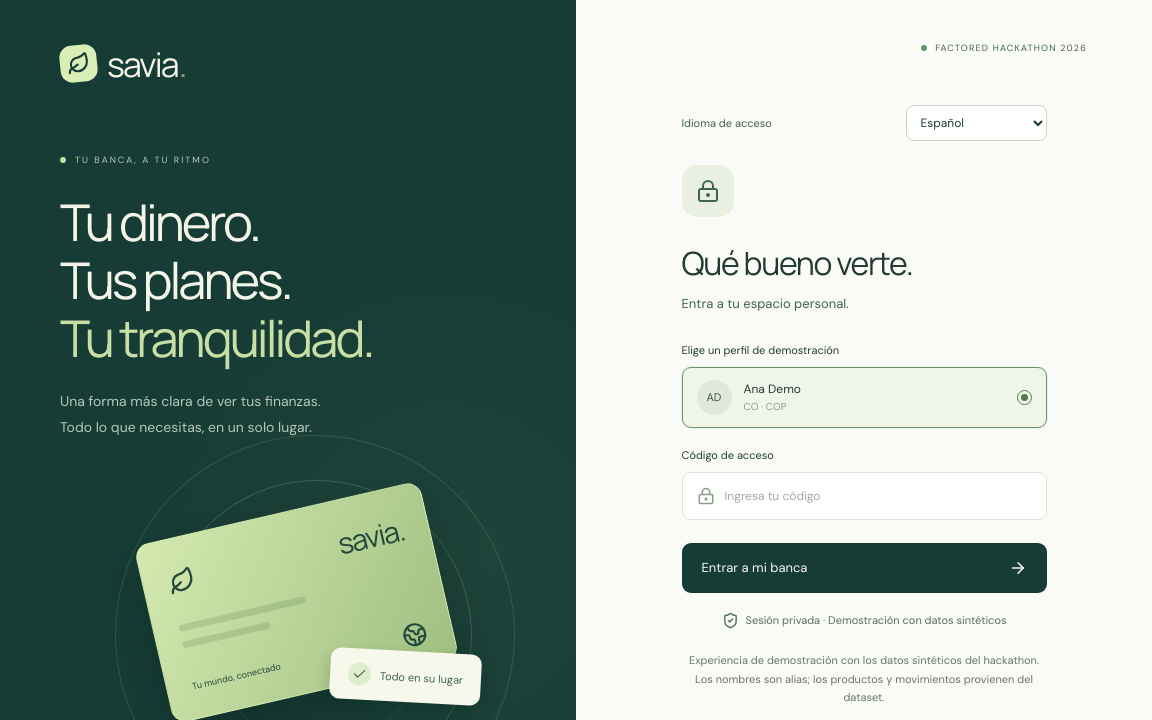
it: Spanish defaults and non-401 failures remain safe and local
Expected: the dropdown labelled "Idioma de acceso" shows "Español", [906,105,1046,141]
Expected: the button "AD Ana Demo CO · COP" is shown, [682,367,1046,428]
Type "wrong-code" into the password field labelled "Código de acceso" at (878, 496), box [724,473,1032,519]
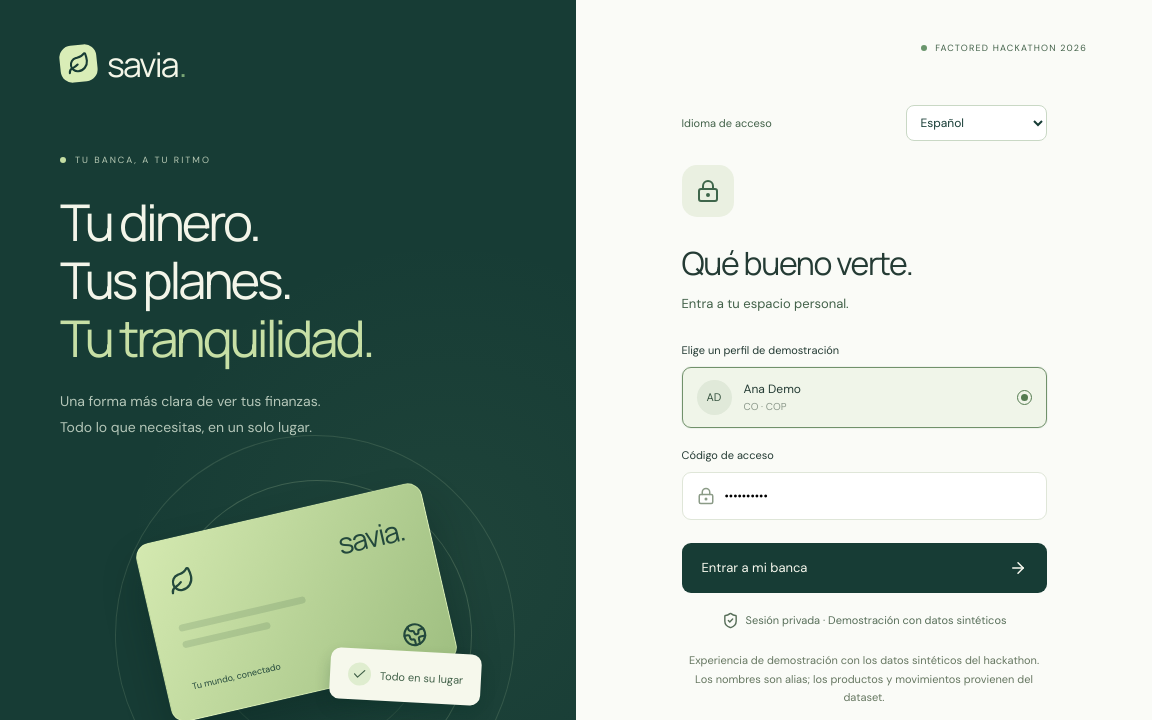
Click the button "Entrar a mi banca" at (754, 568), box [682,543,1046,593]
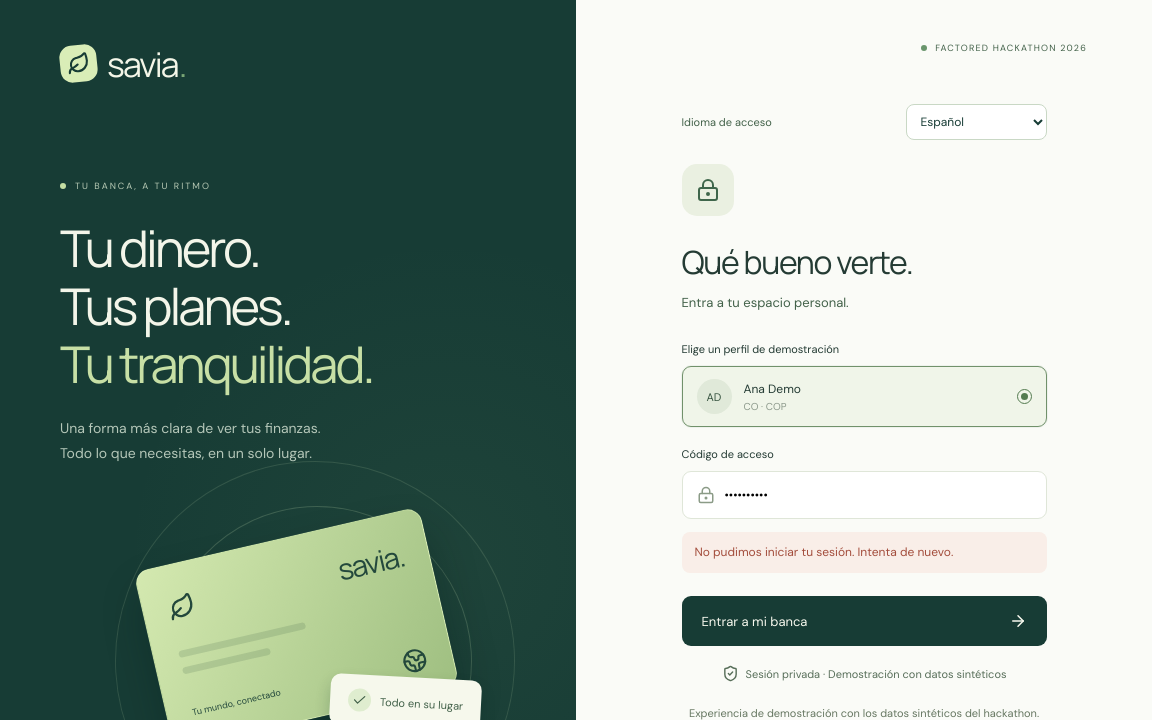
Result: the text "No pudimos iniciar tu sesión. Intenta de nuevo." is shown at [682,532,1046,573]
